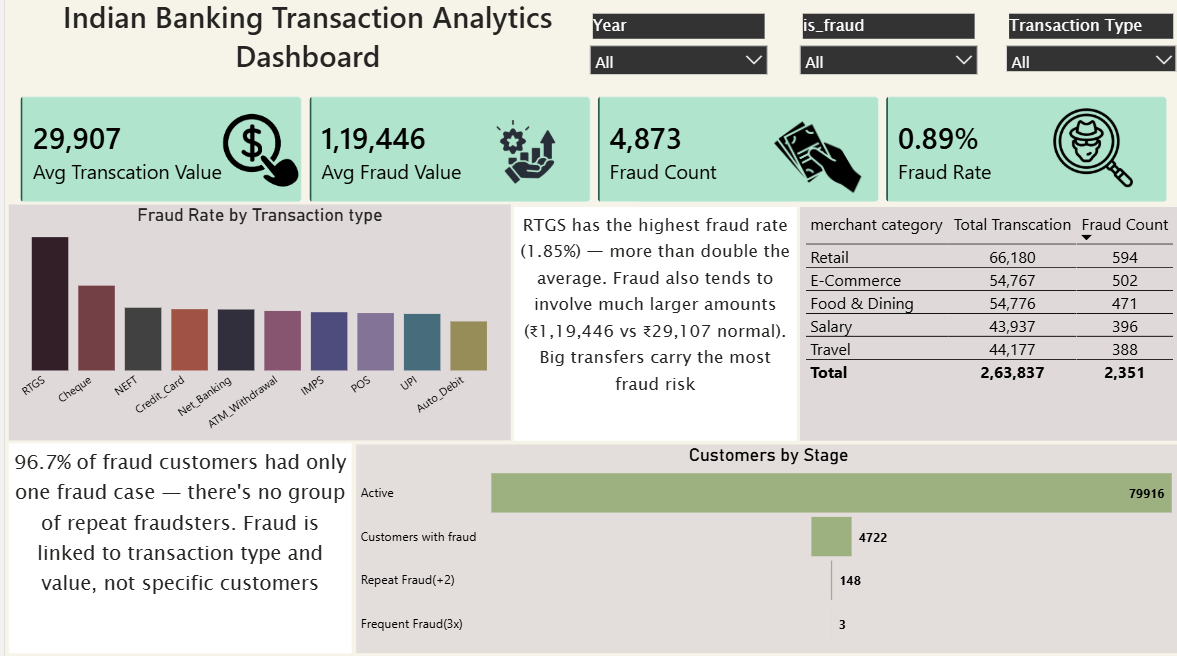

This screenshot's page, from the dashboard's own definition file:
{"tool":"powerbi","page":{"name":"Fraud & Risk Analysis","canvas":[1280,720],"ordinal":2},"visuals":[{"type":"textbox","box":[0,0,657.1,101.2],"z":0},{"type":"slicer","fields":{"Values":["Date_calendar.transaction_date.Variation.Date Hierarchy.Year"]},"box":[627.1,20.6,208.6,82.3],"z":1000},{"type":"slicer","fields":{"Values":["indian_banking_transactions.is_fraud"]},"box":[854.9,20.6,208.6,81],"z":2000},{"type":"slicer","fields":{"Values":["indian_banking_transactions.transaction_type"]},"box":[1078.6,20.6,201.7,65.9],"z":3000},{"type":"cardVisual","fields":{"Data":["indian_banking_transactions.Avg_Transcation_Value","indian_banking_transactions.Avg Fraud Value","indian_banking_transactions.Fraud_Count","indian_banking_transactions.Fraud_Rate"]},"box":[0,95.8,1280,149.3],"z":4000},{"type":"image","box":[443.3,95.5,243.7,156.8],"z":5000},{"type":"image","box":[202.8,129.5,147.9,83.1],"z":6000},{"type":"image","box":[749.1,116.9,266.1,135.2],"z":7000},{"type":"image","box":[1122.3,126.7,115.5,85.9],"z":8000},{"type":"columnChart","title":"Fraud Rate by Transaction type","fields":{"Y":["indian_banking_transactions.Fraud_Rate"],"Category":["indian_banking_transactions.transaction_type"]},"box":[4.2,230.9,545,256.3],"z":9000},{"type":"tableEx","fields":{"Values":["indian_banking_transactions.merchant_category","indian_banking_transactions.Total_Transcation","indian_banking_transactions.Fraud_Count"]},"box":[863.2,233.8,413,253.5],"z":10000},{"type":"funnel","fields":{"Category":["Fraud Funnel.Stage"],"Y":["Sum(Fraud Funnel.Customers)"]},"box":[381,491,895,226],"z":11000},{"type":"textbox","box":[4.1,490,371.6,228],"z":12000},{"type":"textbox","box":[552,233.8,307,253.5],"z":13000}]}

Visuals, with their boxes in screenshot pixels (x1, y1, x2, y2), scaled from the page's 1280x720 canvas onto the 1177x656 screenshot:
textbox: <region>0, 0, 604, 92</region>
slicer - Date_calendar.transaction_date.Variation.Date Hierarchy.Year: <region>577, 19, 768, 94</region>
slicer - indian_banking_transactions.is_fraud: <region>786, 19, 978, 93</region>
slicer - indian_banking_transactions.transaction_type: <region>992, 19, 1176, 79</region>
cardVisual - indian_banking_transactions.Avg_Transcation_Value x indian_banking_transactions.Avg Fraud Value: <region>0, 87, 1176, 223</region>
image: <region>408, 87, 632, 230</region>
image: <region>186, 118, 322, 194</region>
image: <region>689, 107, 934, 230</region>
image: <region>1032, 115, 1138, 194</region>
"Fraud Rate by Transaction type" columnChart: <region>4, 210, 505, 444</region>
tableEx - indian_banking_transactions.merchant_category x indian_banking_transactions.Total_Transcation: <region>794, 213, 1174, 444</region>
funnel - Fraud Funnel.Stage x Sum(Fraud Funnel.Customers): <region>350, 447, 1173, 653</region>
textbox: <region>4, 446, 345, 654</region>
textbox: <region>508, 213, 790, 444</region>
